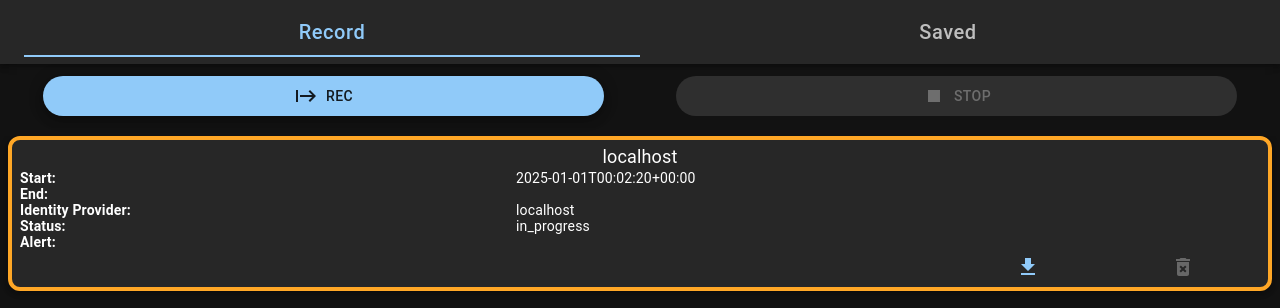
Test case: SidePanel › Render: SessionPanel
Note: switch to session-panel
Click the tab "Saved" at point(948, 32), box [640,8,1256,56]
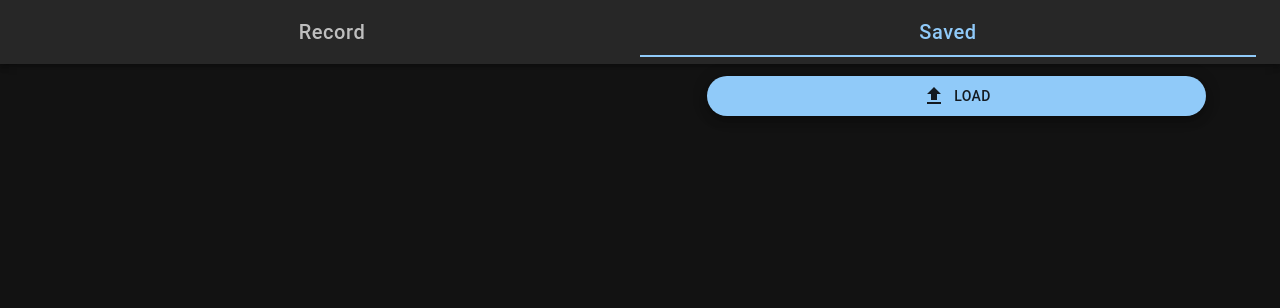
Check: the button labelled "Load" is shown, box [707,76,1206,116]
